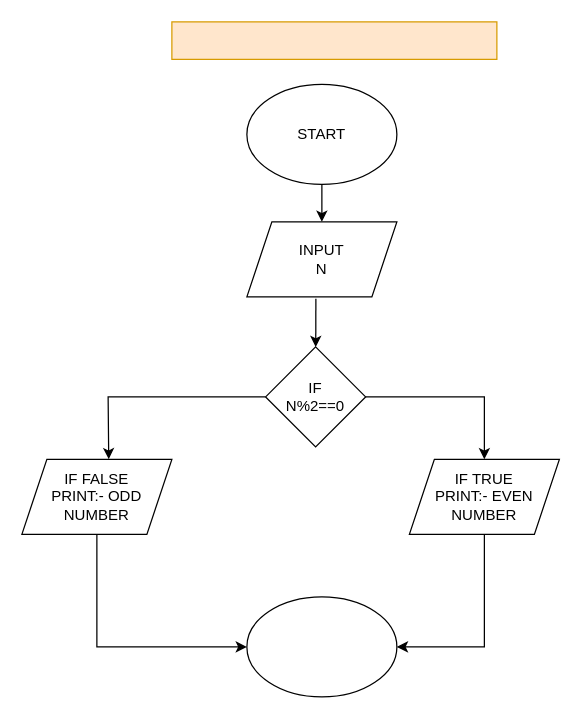
The diagram is 581 pixels wide and 719 high, and some of its shapes have lost their labels. The centre of each missing label's shape, as x and y in pixels:
ODD NUMBER EVEN NUMBER PROGRAM: the point at 334,40
STOP: the point at 321,646
